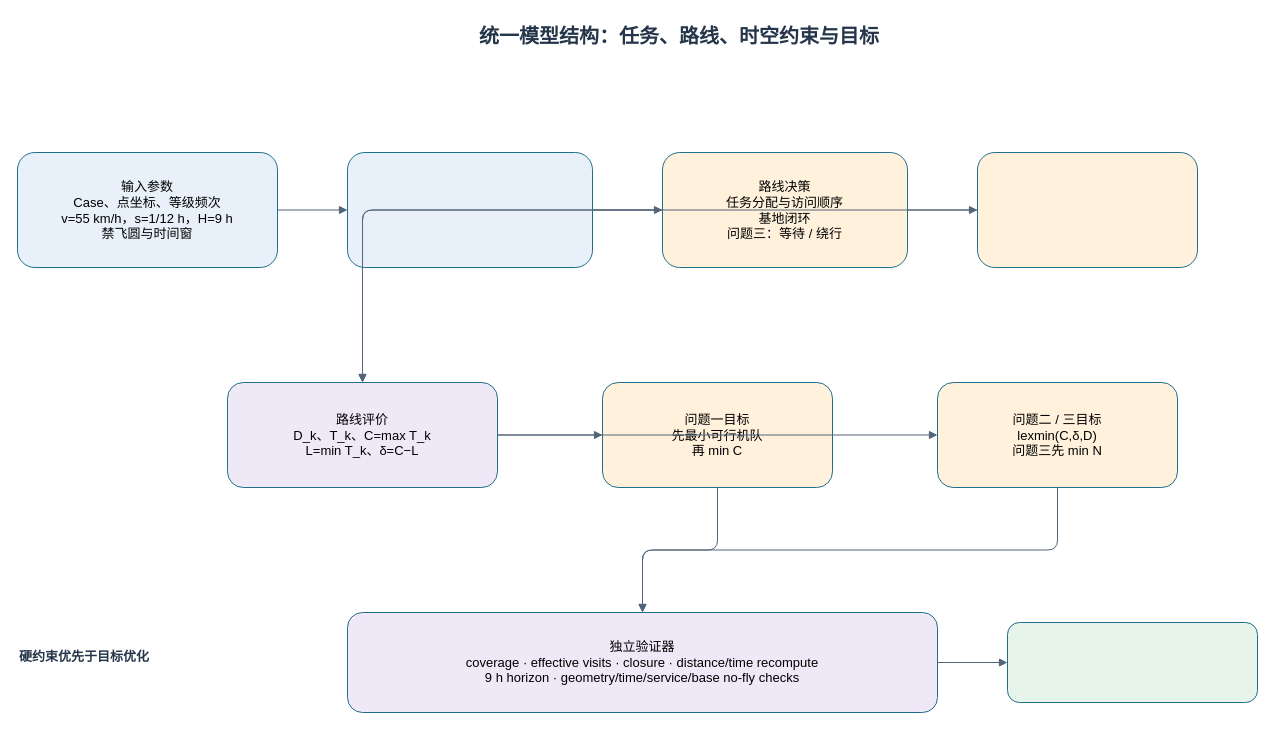
Image size: 1275x730. Some labels were removed from this diagram. The shapes that lost their labels are listed below. From the top down, each one's box as (x1, y1, x2, y2) in pixels, then its label:
(346, 152, 592, 268): 任务集合 M (i,q), q=1,…,r_i 唯一 task_id 相邻相同点禁止
(976, 152, 1198, 268): 时间传播 D_k/v + n_k s + w_k 动态边 Φ_ab(t)
(1006, 622, 1258, 702): 结构化输出 q1/q2/q3 JSON、结果表与论文图
